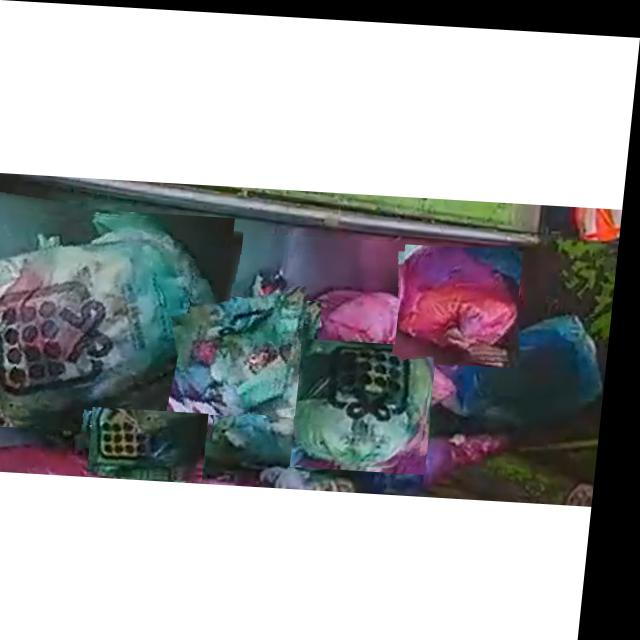general_trashbag: (0, 215, 229, 419), (303, 337, 439, 463), (194, 285, 312, 413), (406, 242, 525, 353), (98, 407, 216, 474)
